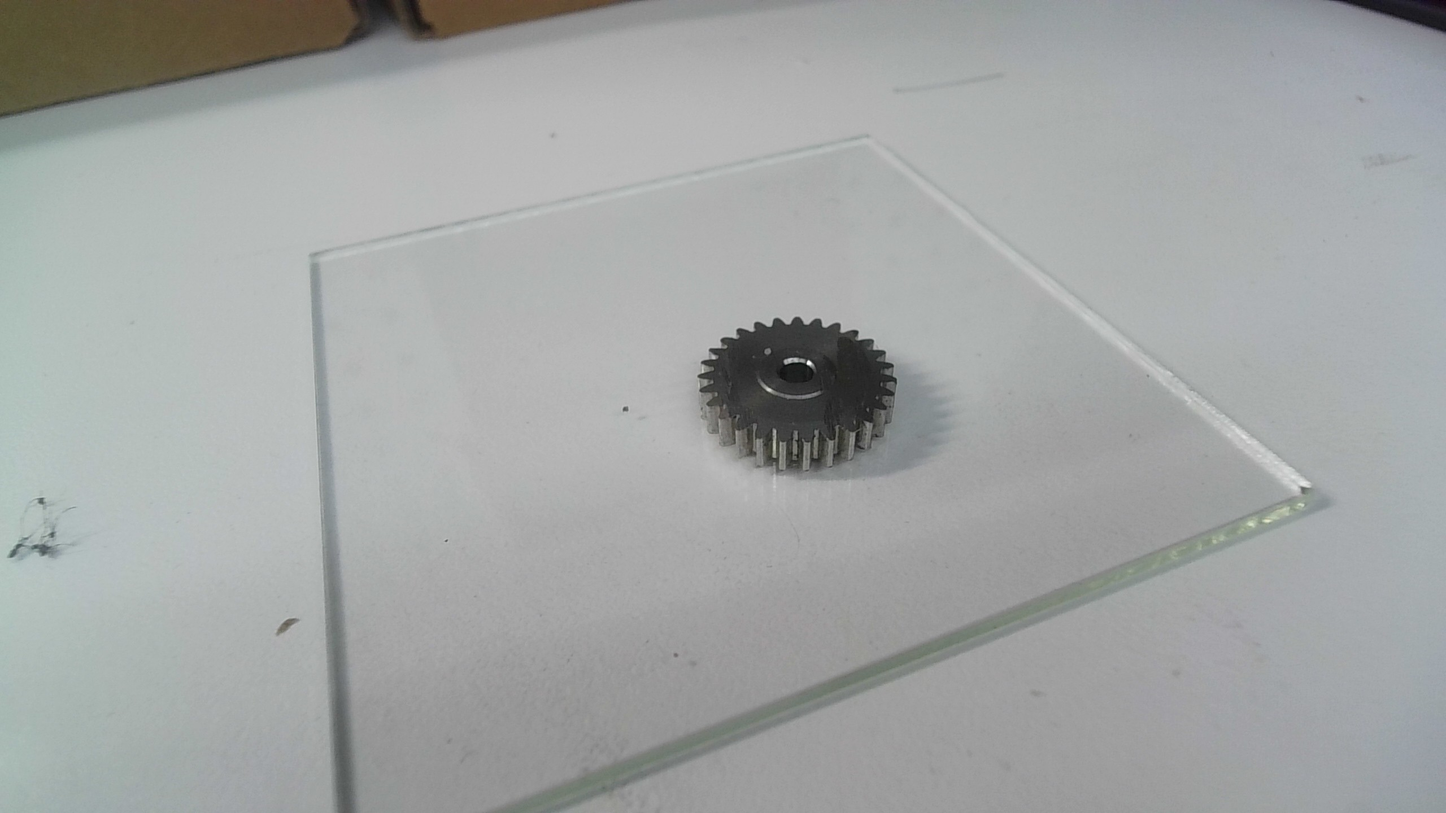gear: (697, 316, 901, 477)
